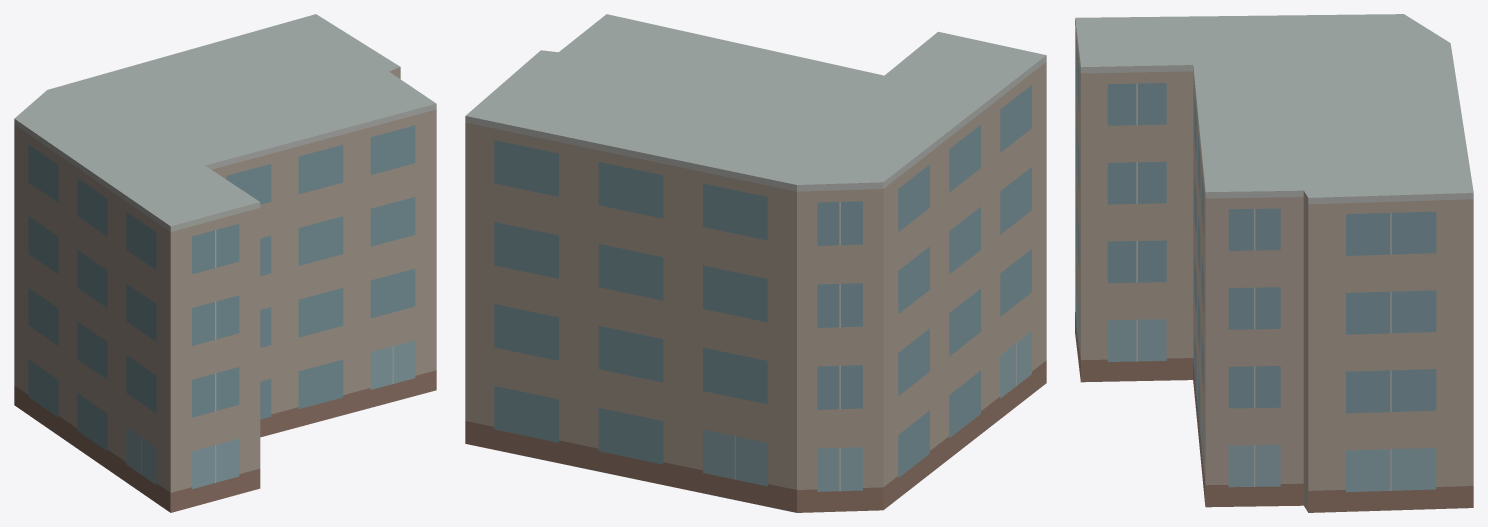
The model's file is survey-upis-32666292.glb.
3 renders of one model, left to right at view 1: azimuth 30°, elevation 25°; view 2: azimuth 150°, elevation 25°; view 3: azimuth 270°, elevation 25°, orthographic. The views are drawn at different scales.
Visible parts, largest first — view 1: survey-upis-32666292.tmp; view 2: survey-upis-32666292.tmp; view 3: survey-upis-32666292.tmp.
Boxes of the visible parts, x1,y1,x2,y2 form: survey-upis-32666292.tmp: (14,14,436,512); survey-upis-32666292.tmp: (465,14,1046,512); survey-upis-32666292.tmp: (1075,14,1473,512).
Size of the model in its own units: 15.29 by 12.2 by 14.
